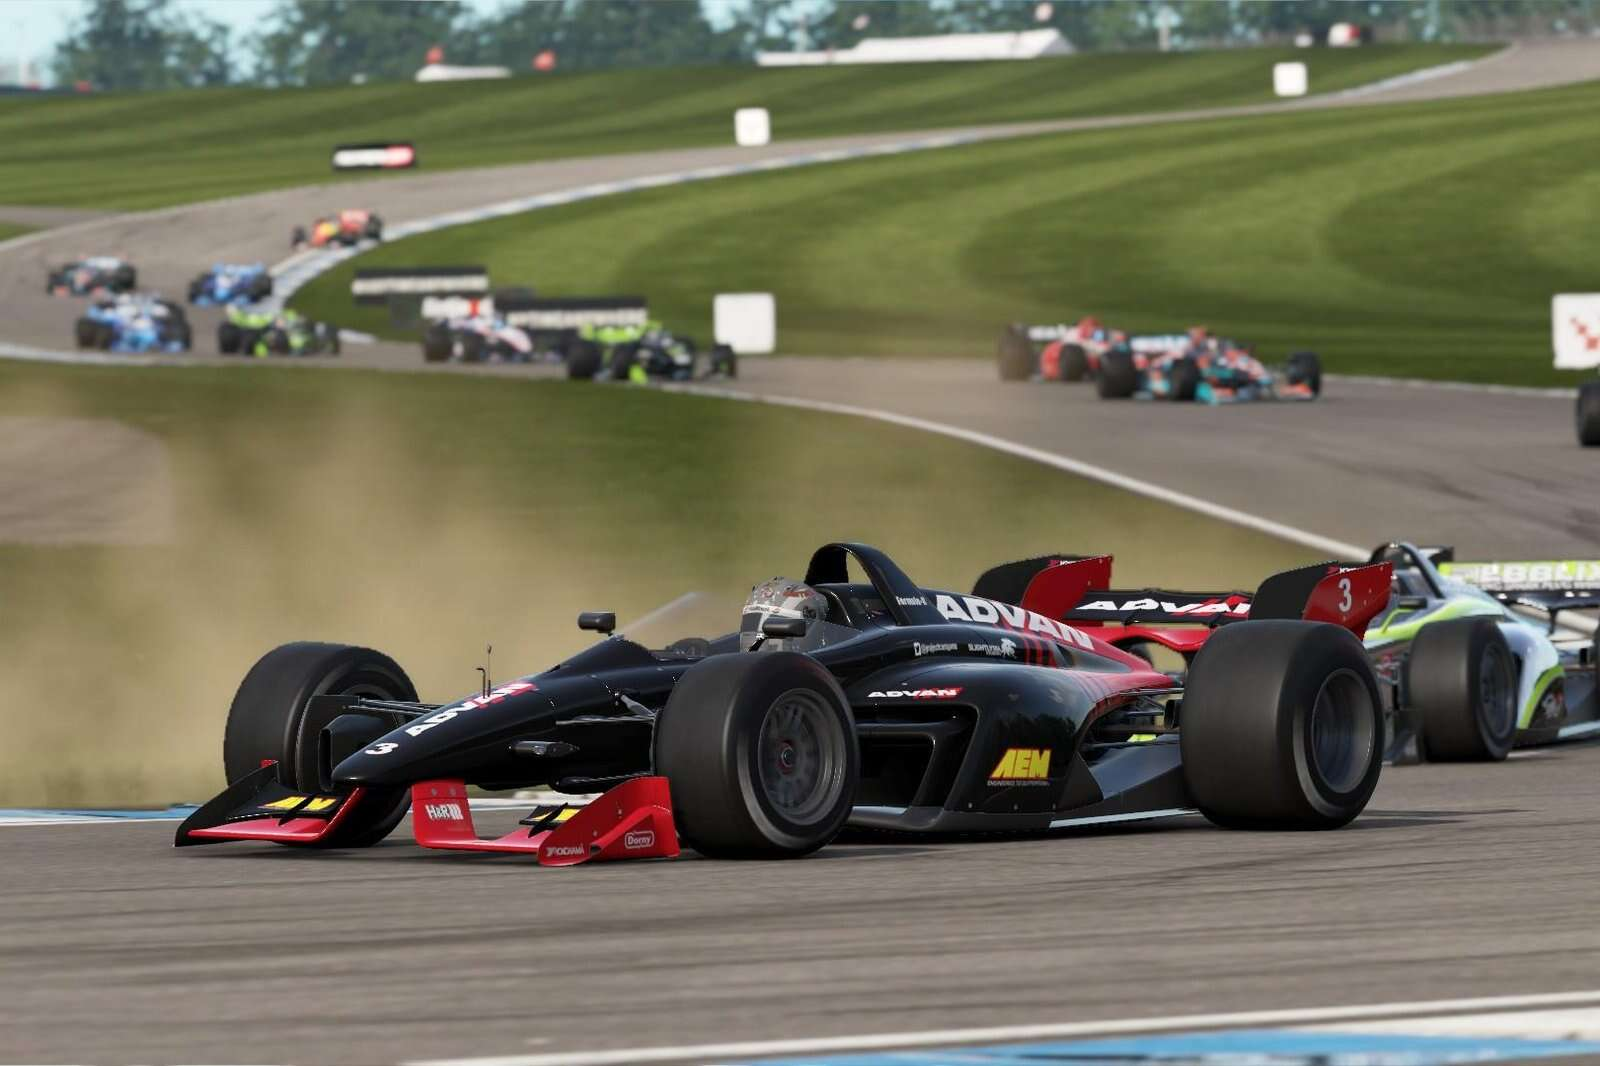f1_car: (169, 519, 1418, 858), (1091, 321, 1330, 416), (560, 314, 739, 396), (413, 289, 553, 370), (70, 284, 193, 360), (213, 300, 346, 368)
helmet: (719, 566, 841, 665)
